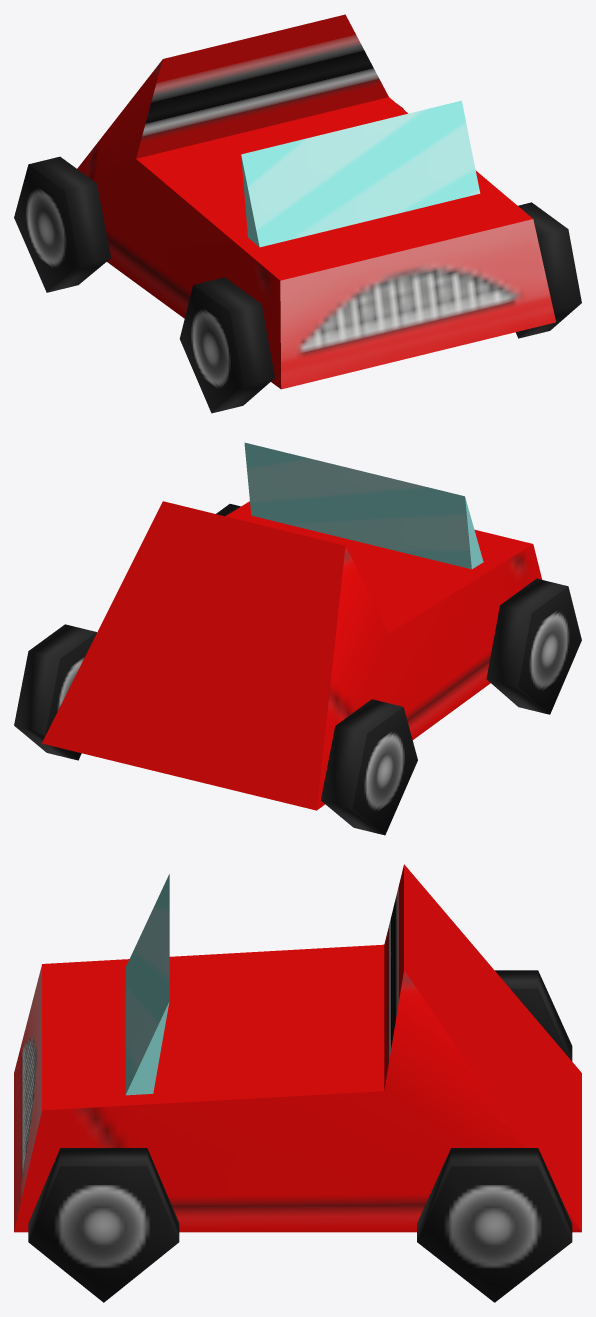
File: Battery_Powered_Toy_Car.fbx
3 renders of one model, top to bottom at view 1: azimuth 30°, elevation 25°; view 2: azimuth 150°, elevation 25°; view 3: azimuth 270°, elevation 25°, orthographic. The views are drawn at different scales.
Visible parts, largest first — view 1: Battery_Powered_Toy_Car_1; view 2: Battery_Powered_Toy_Car_1; view 3: Battery_Powered_Toy_Car_1.
Part boxes in pixels (box(x1,y1,x2,y2)): Battery_Powered_Toy_Car_1: box(14, 14, 581, 413); Battery_Powered_Toy_Car_1: box(14, 442, 581, 835); Battery_Powered_Toy_Car_1: box(14, 864, 581, 1302).
Size of the model in its own units: 107 by 73.04 by 131.
